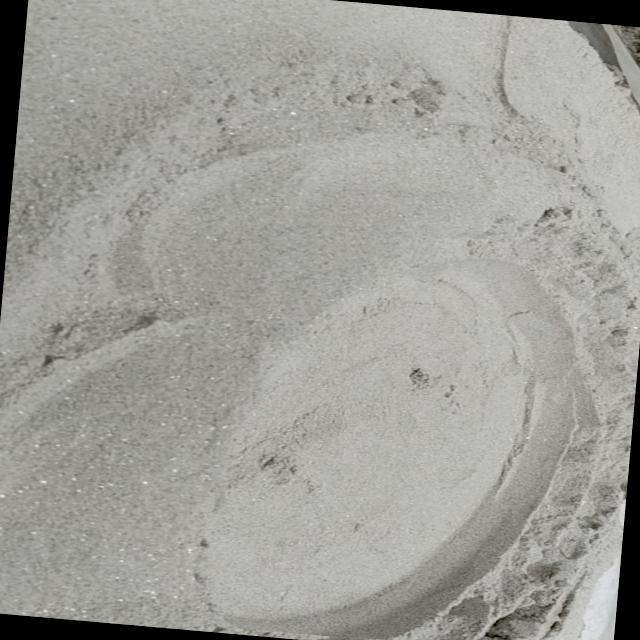C40: (206, 246, 591, 640)
